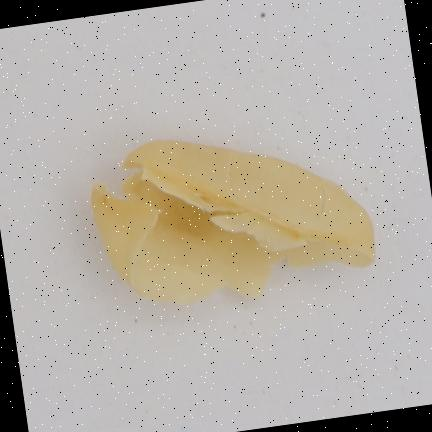parchment: (91, 140, 375, 302)
